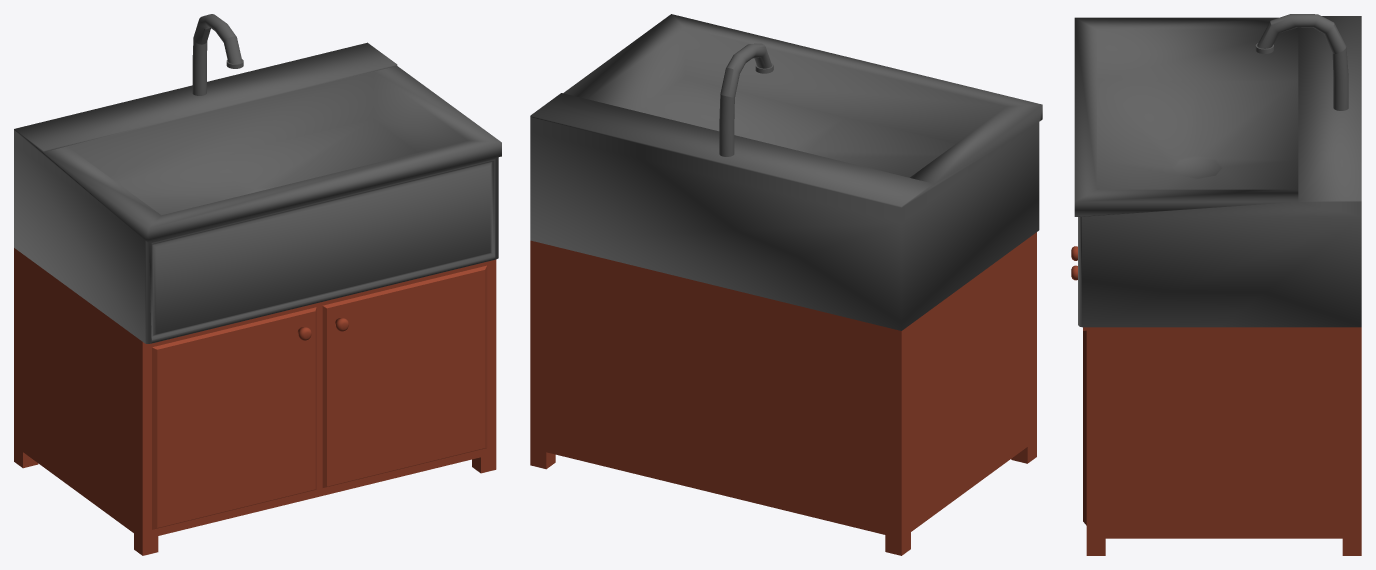
3 renders of one model, left to right at view 1: azimuth 30°, elevation 25°; view 2: azimuth 150°, elevation 25°; view 3: azimuth 270°, elevation 25°, orthographic. The views are drawn at different scales.
Visible parts, largest first — view 1: Spüle, Unterschrank, Küchenzeile.001; view 2: Spüle, Unterschrank, Küchenzeile.001; view 3: Spüle, Unterschrank, Küchenzeile.001.
Boxes of the visible parts, box(x1,y1,x2,y2) form: Spüle: box(14, 42, 501, 343); Unterschrank: box(14, 248, 496, 555); Küchenzeile.001: box(192, 14, 243, 95); Spüle: box(530, 14, 1042, 330); Unterschrank: box(530, 232, 1036, 555); Küchenzeile.001: box(719, 43, 773, 156); Spüle: box(1074, 16, 1361, 327); Unterschrank: box(1083, 327, 1361, 555); Küchenzeile.001: box(1255, 14, 1348, 110).
Size of the model in its own units: 1 by 1.13 by 0.6655.
